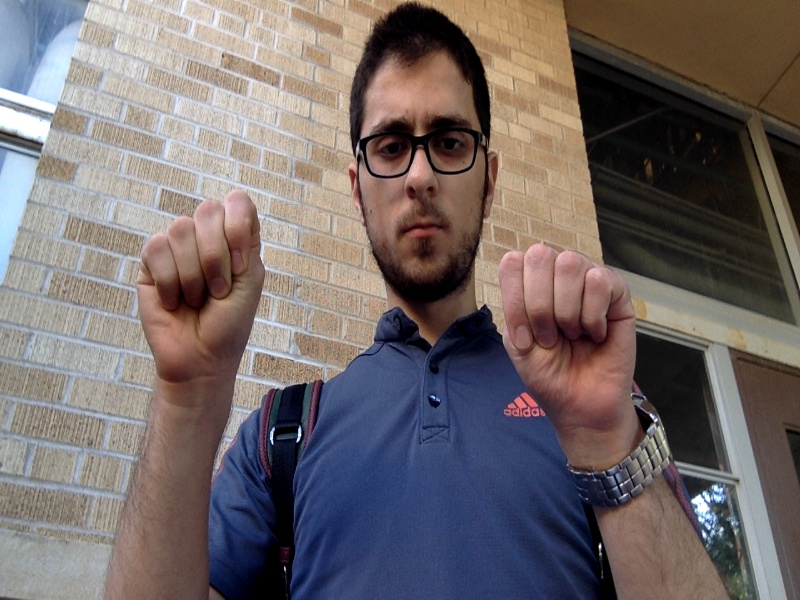0-hand: (138, 192, 265, 399), (500, 245, 637, 427)
